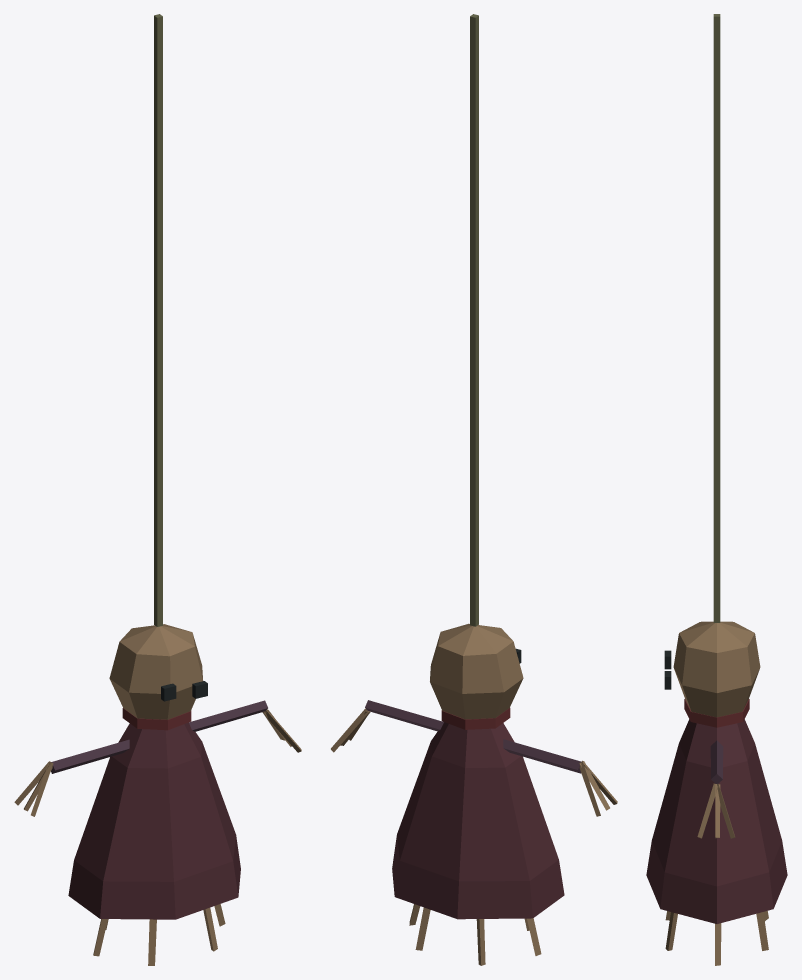
Rendered from papusa.glb.
3 renders of one model, left to right at view 1: azimuth 30°, elevation 25°; view 2: azimuth 150°, elevation 25°; view 3: azimuth 270°, elevation 25°, orthographic.
Parts seen in each view (by area): view 1: Papusa, Sfoara; view 2: Papusa, Sfoara; view 3: Papusa, Sfoara.
Part boxes in pixels (x1,y1,x2,y2): Papusa: [14, 447, 301, 965]; Sfoara: [154, 14, 162, 449]; Papusa: [331, 447, 617, 965]; Sfoara: [470, 14, 478, 449]; Papusa: [646, 446, 787, 965]; Sfoara: [713, 14, 720, 446].
Size of the model in its own units: 0.5581 by 1.82 by 0.2535.
